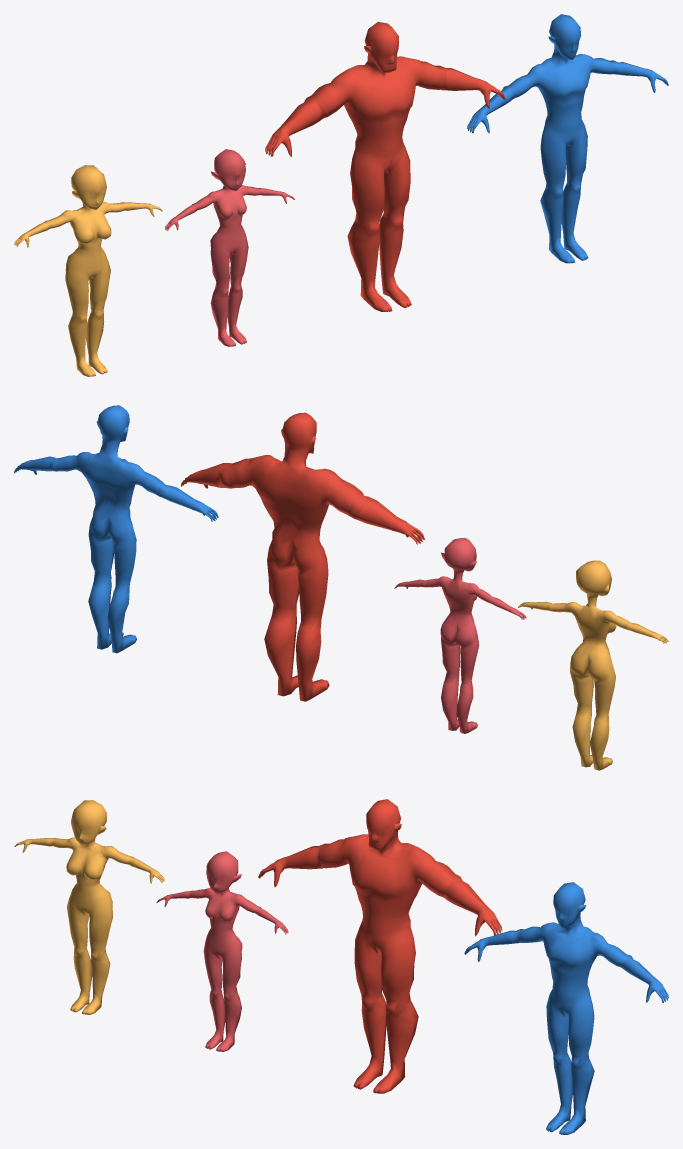
The model's file is stylize_basemeshes.glb.
3 renders of one model, top to bottom at view 1: azimuth 30°, elevation 25°; view 2: azimuth 150°, elevation 25°; view 3: azimuth 330°, elevation 25°, orthographic.
Visible parts, largest first — view 1: ELFEBEN 2024 MALE bULKY_3, ELFEBEN 2024 MALE_2, ELFEBEN 2024 FEMALE_0, ELFEBNE 2024 FEMALE SMALL BOOB_1; view 2: ELFEBEN 2024 MALE bULKY_3, ELFEBEN 2024 MALE_2, ELFEBEN 2024 FEMALE_0, ELFEBNE 2024 FEMALE SMALL BOOB_1; view 3: ELFEBEN 2024 MALE bULKY_3, ELFEBEN 2024 MALE_2, ELFEBEN 2024 FEMALE_0, ELFEBNE 2024 FEMALE SMALL BOOB_1.
Boxes of the visible parts, x1,y1,x2,y2 form: ELFEBEN 2024 MALE bULKY_3: [265, 21, 505, 311]; ELFEBEN 2024 MALE_2: [467, 14, 668, 263]; ELFEBEN 2024 FEMALE_0: [14, 165, 162, 376]; ELFEBNE 2024 FEMALE SMALL BOOB_1: [165, 149, 294, 346]; ELFEBEN 2024 MALE bULKY_3: [180, 412, 424, 701]; ELFEBEN 2024 MALE_2: [14, 405, 218, 653]; ELFEBEN 2024 FEMALE_0: [518, 560, 668, 770]; ELFEBNE 2024 FEMALE SMALL BOOB_1: [394, 538, 526, 733]; ELFEBEN 2024 MALE bULKY_3: [258, 799, 502, 1093]; ELFEBEN 2024 MALE_2: [464, 882, 668, 1134]; ELFEBEN 2024 FEMALE_0: [14, 800, 164, 1014]; ELFEBNE 2024 FEMALE SMALL BOOB_1: [156, 851, 288, 1051].
Bounding box in the file's own units: 5.58 × 2.26 × 0.4449.
